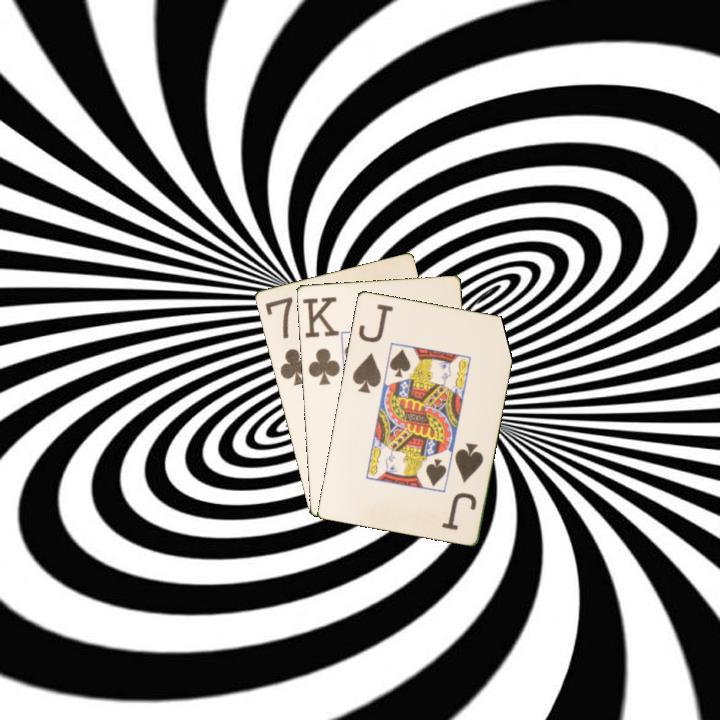7c: (261, 293, 314, 389)
Js: (349, 300, 396, 396), (438, 439, 486, 533)
Kc: (299, 293, 343, 388)
